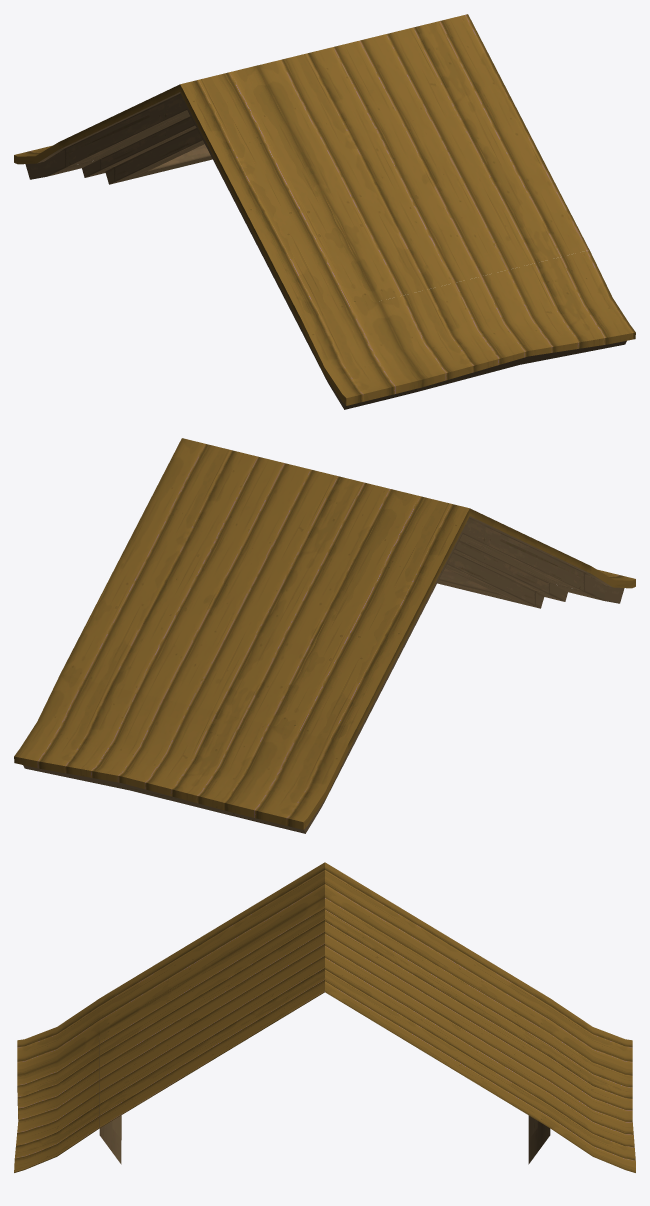
File: SM_building_roof_18.glb
3 renders of one model, top to bottom at view 1: azimuth 30°, elevation 25°; view 2: azimuth 150°, elevation 25°; view 3: azimuth 270°, elevation 25°, orthographic. The views are drawn at different scales.
Visible parts, largest first — view 1: SM_building_roof_18; view 2: SM_building_roof_18; view 3: SM_building_roof_18.
Part boxes in pixels (x1,y1,x2,y2): SM_building_roof_18: (14, 14, 635, 409); SM_building_roof_18: (14, 438, 635, 833); SM_building_roof_18: (14, 862, 635, 1172).
Bounding box in the file's own units: 4.1 × 2.93 × 8.29.
Materials: 3 (3 with a texture image).
